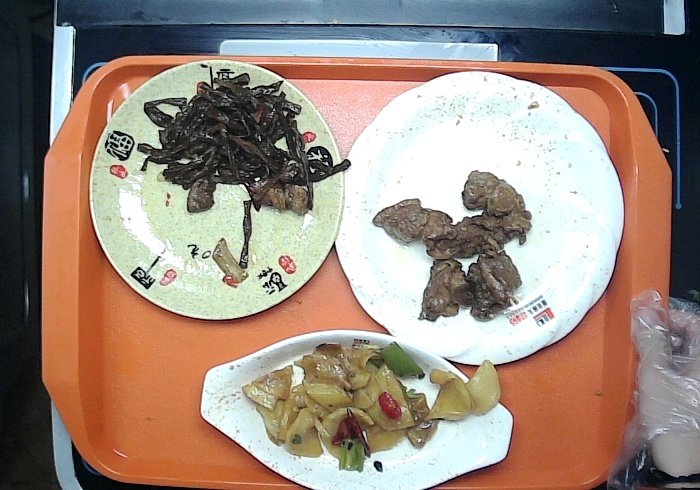NLDX-Bai_Zhe_Yuan_Pan: (333, 68, 626, 370)
NLDX-Fu_Zi_Yuan_Pan: (87, 57, 345, 323)
NLDX-Yu_Pan: (197, 330, 514, 490)
